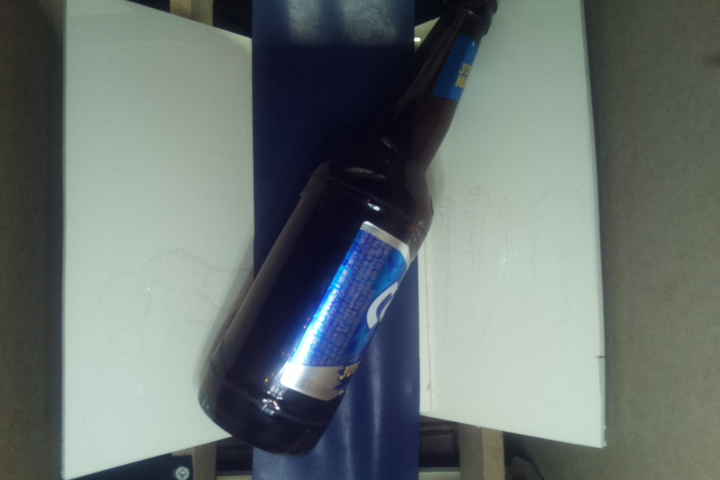makju: (200, 1, 507, 457)
